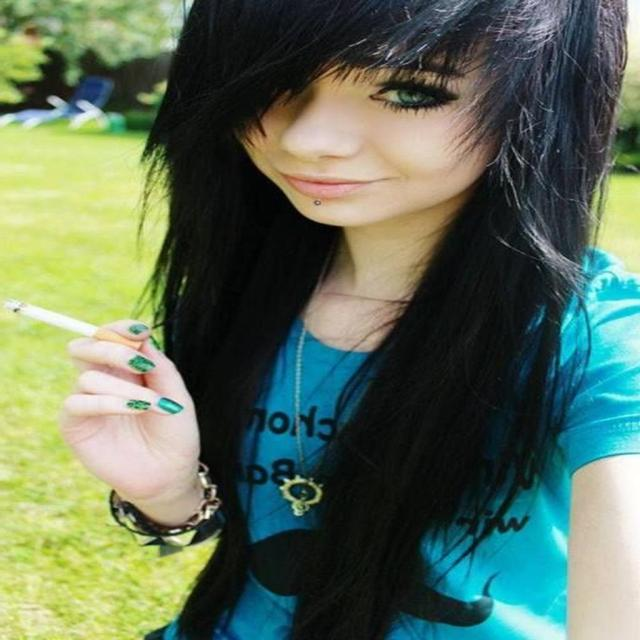smoking: (0, 0, 640, 535)
